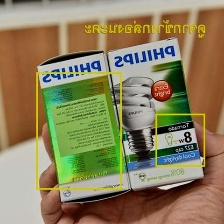carton: (102, 32, 206, 197), (35, 46, 134, 208)
